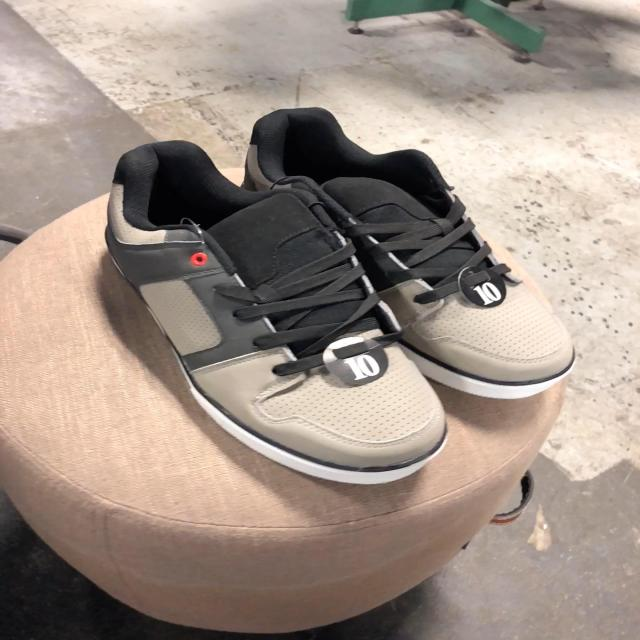shoe: (117, 109, 572, 384), (105, 142, 445, 488)
